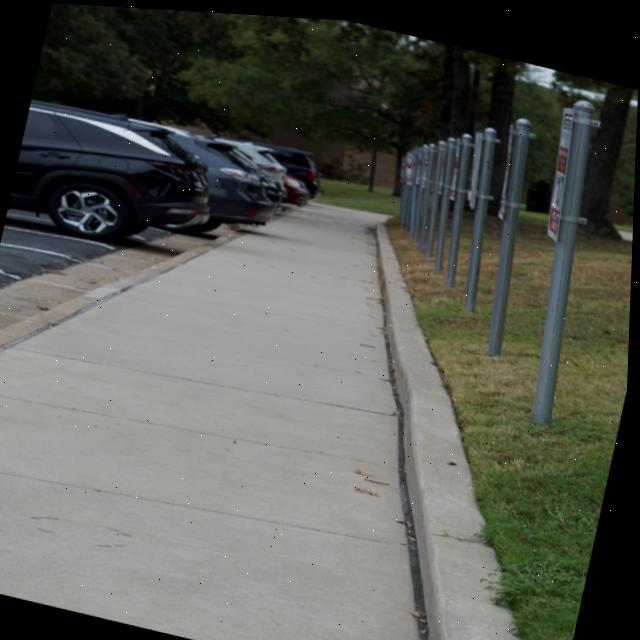Automobile: (9, 100, 211, 238), (164, 124, 281, 229), (214, 135, 287, 195), (267, 143, 323, 194), (284, 171, 310, 200)
Road: (0, 208, 231, 330)
Sidewalk: (0, 199, 423, 640)
